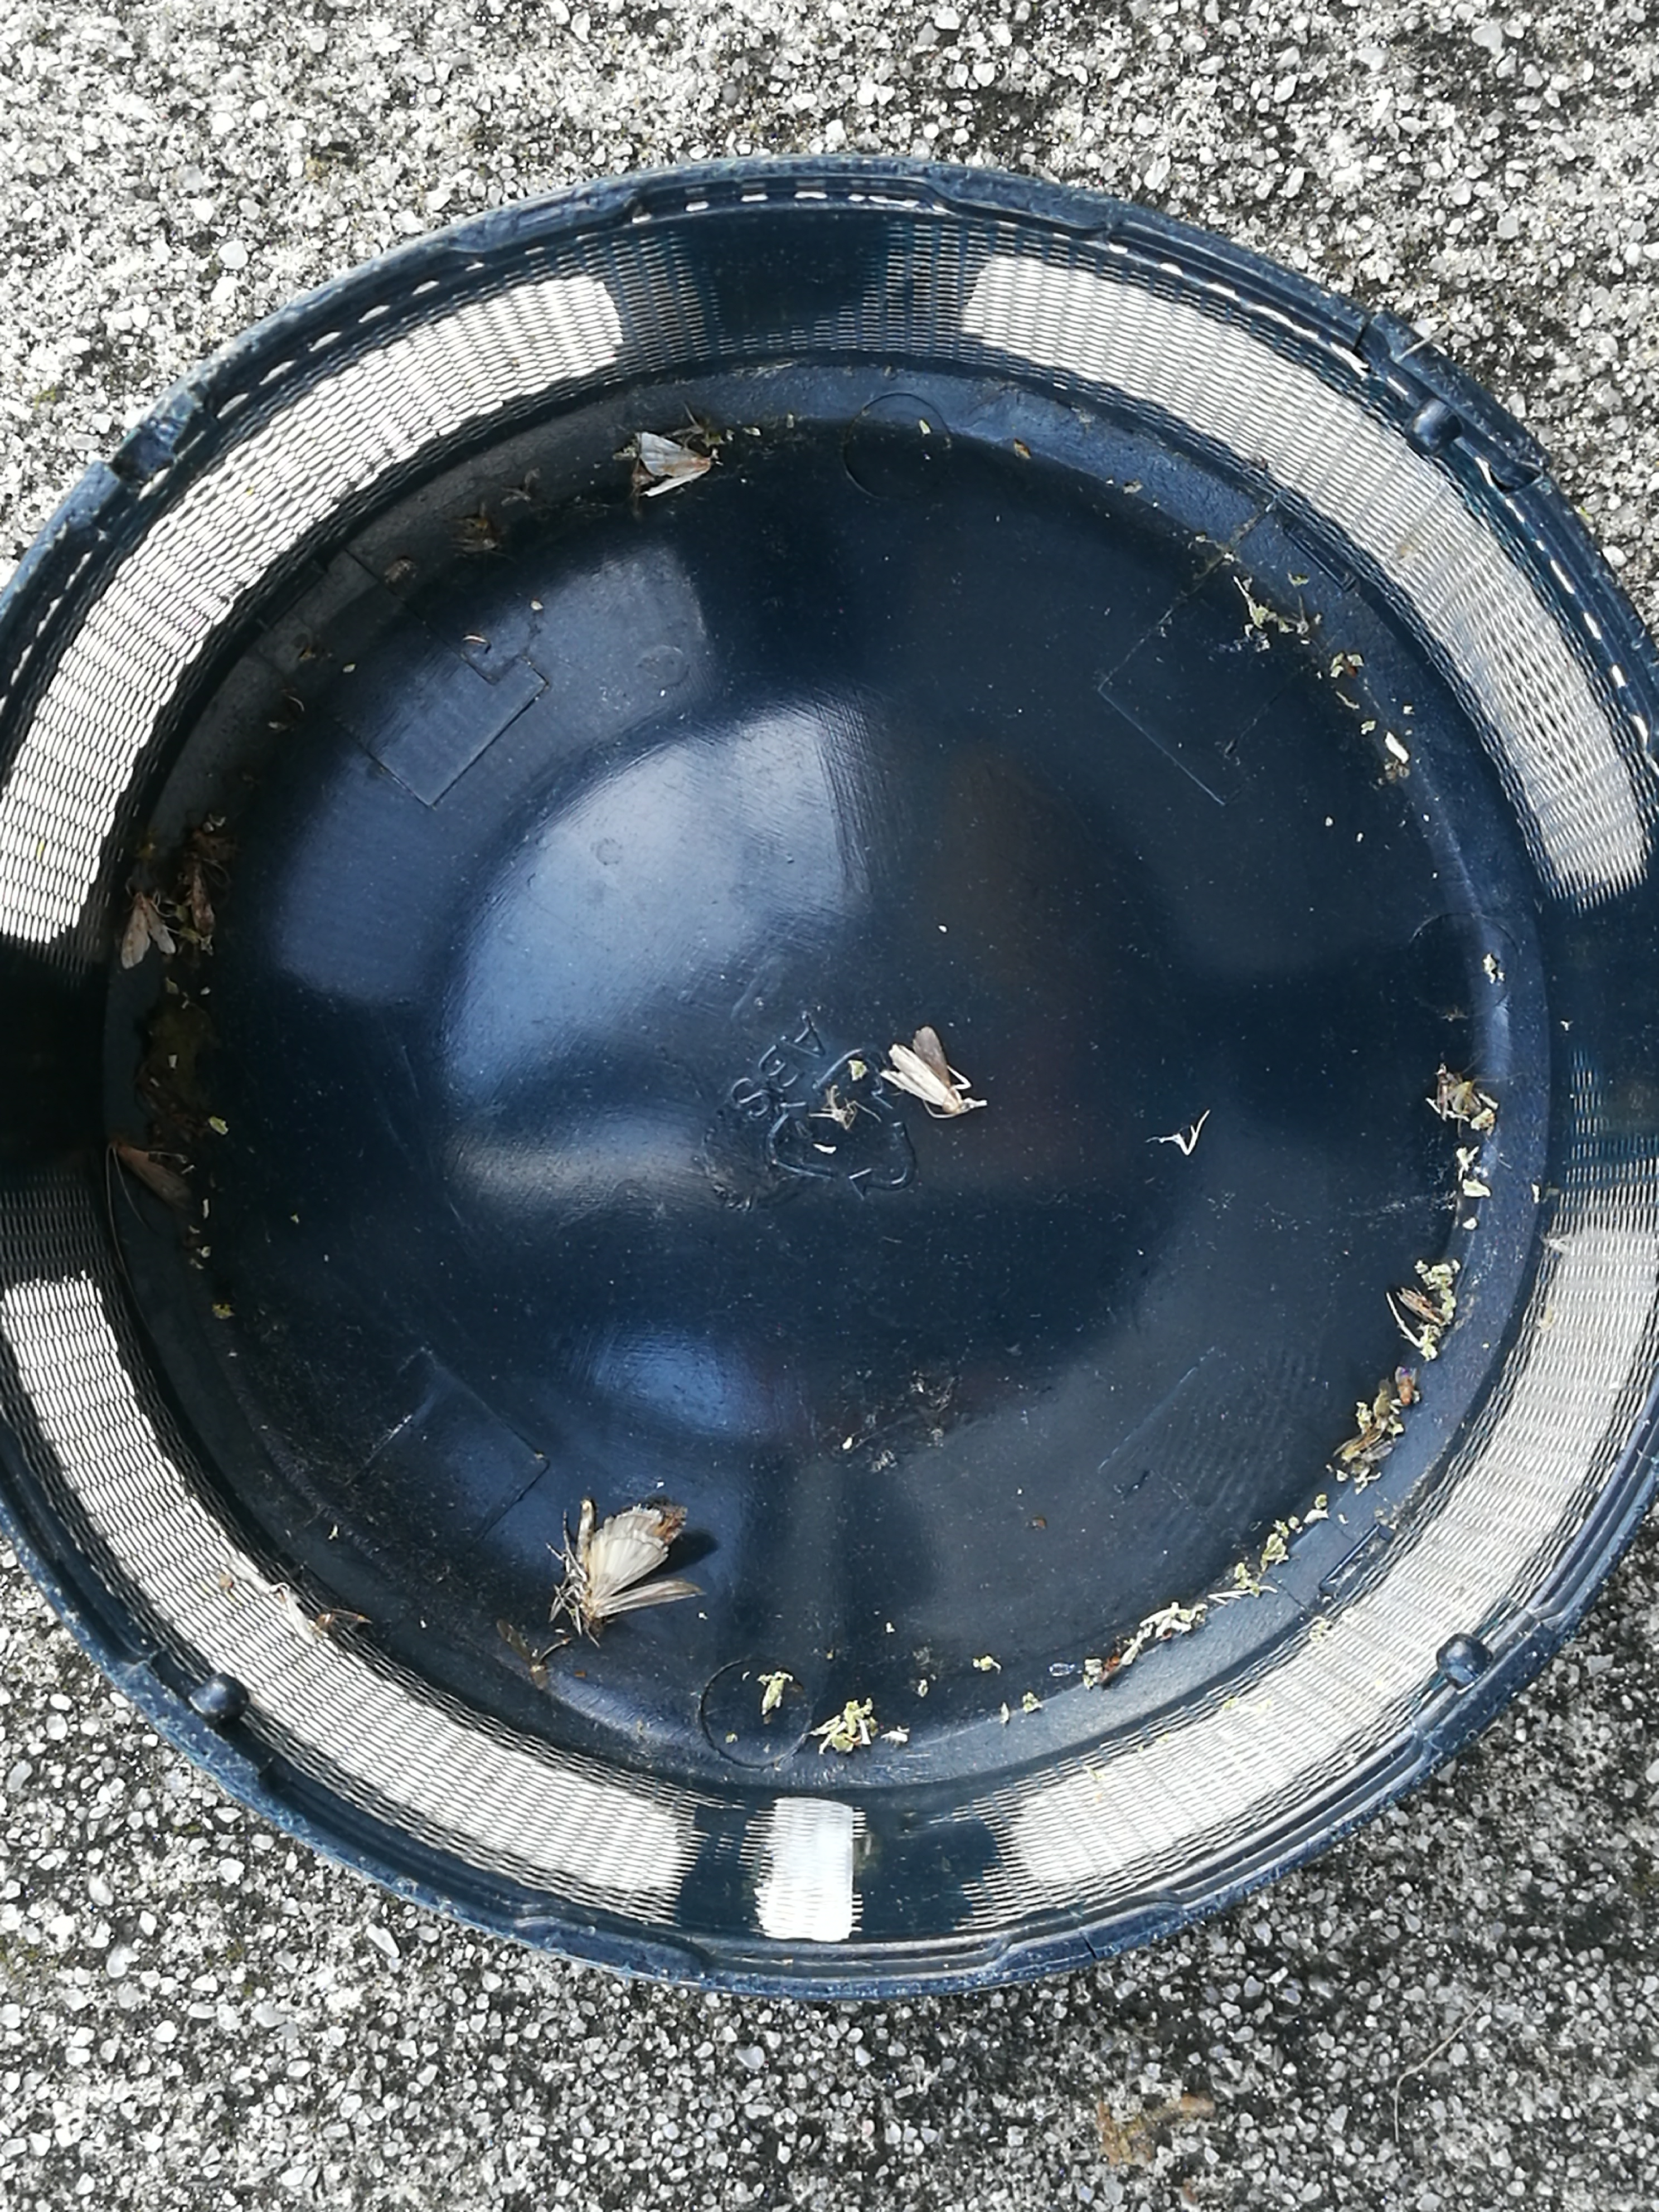mosquito: (112, 1141, 192, 1209), (181, 852, 216, 934), (1398, 1289, 1448, 1325)
moth: (573, 1501, 702, 1634), (880, 1028, 974, 1115), (638, 432, 714, 495), (120, 895, 174, 968)
